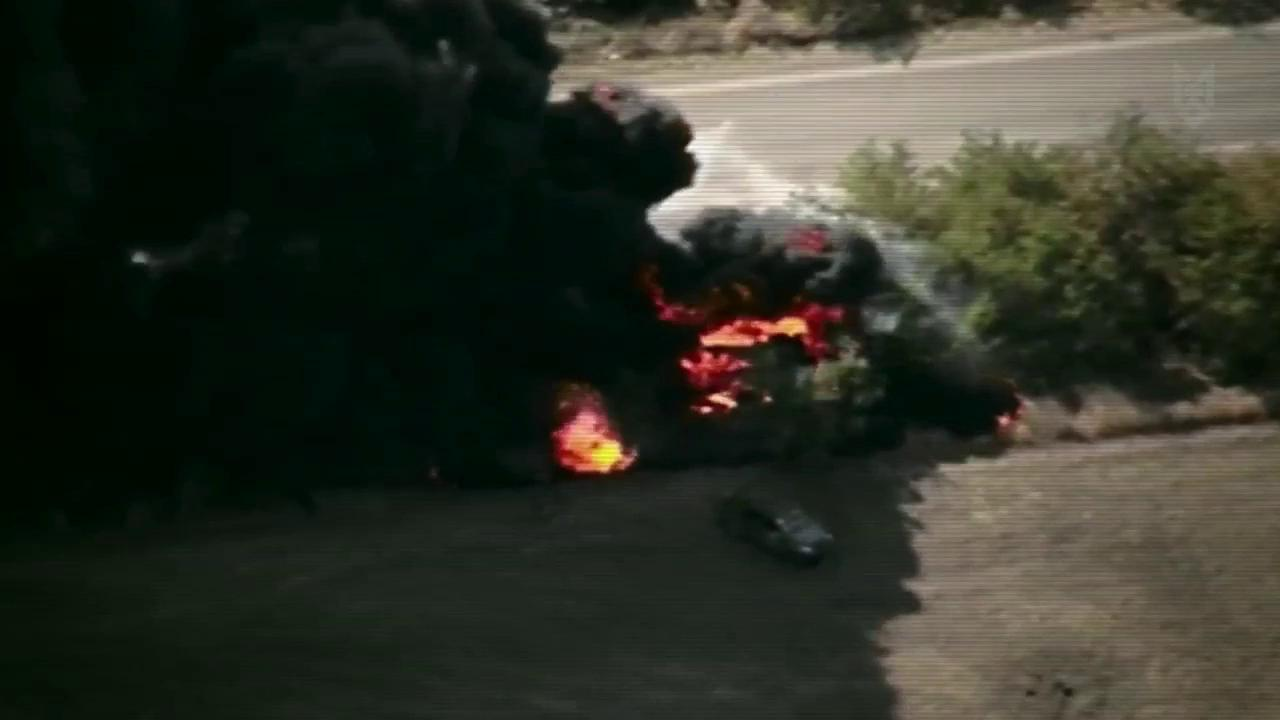tank: (719, 478, 839, 580)
